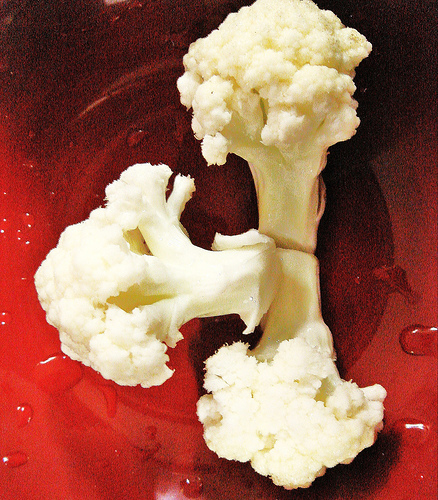cauliflower: (33, 162, 279, 387), (176, 0, 369, 251), (196, 252, 386, 491)
